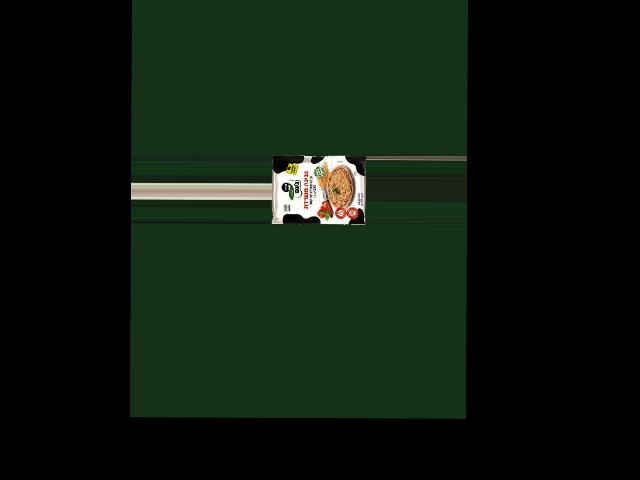cheese: (278, 153, 361, 236)
